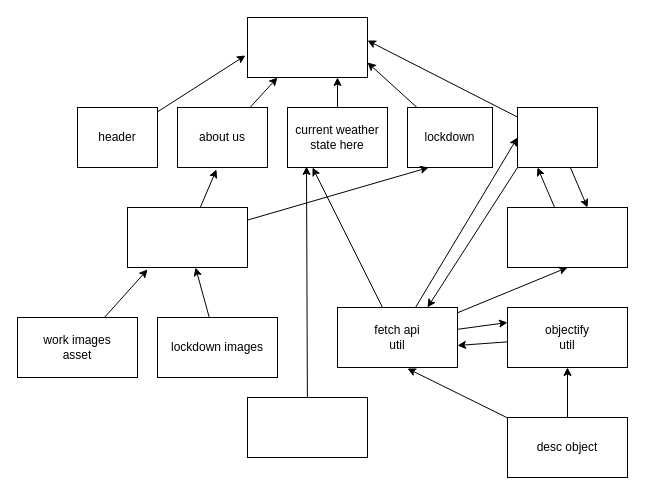
Image size: 645x495. Some labels were removed from this diagram. Each missing label, with the box of its shape:
app: (246, 16, 368, 78)
clock state here: (246, 396, 368, 458)
forecast state here: (516, 106, 598, 168)
image carousel: (126, 206, 248, 268)
weather carousel: (506, 206, 628, 268)
